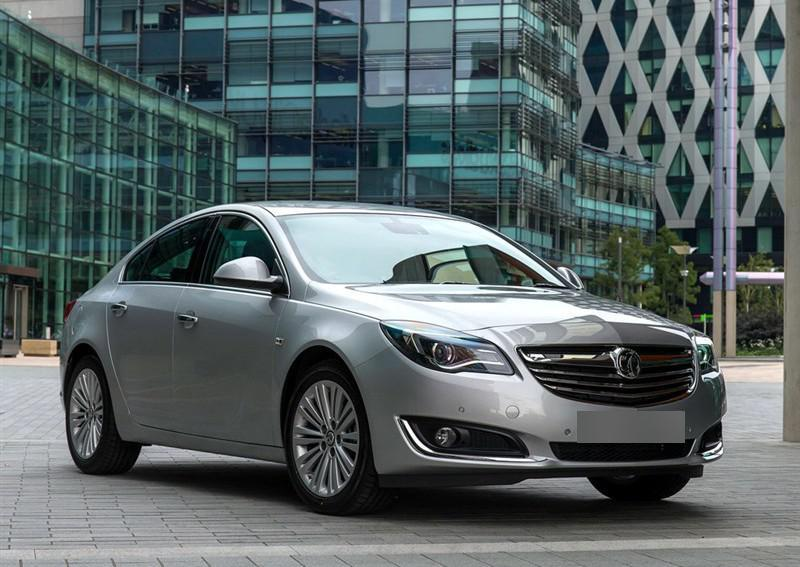Wagon: (58, 199, 729, 519)
